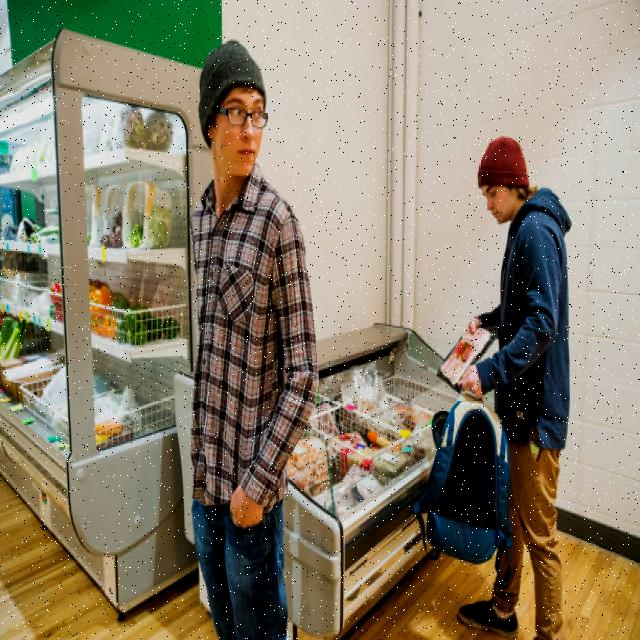article: (438, 328, 493, 386)
bags: (412, 398, 511, 584)
hands: (230, 486, 262, 525)
person: (190, 41, 317, 637), (458, 138, 570, 638)
